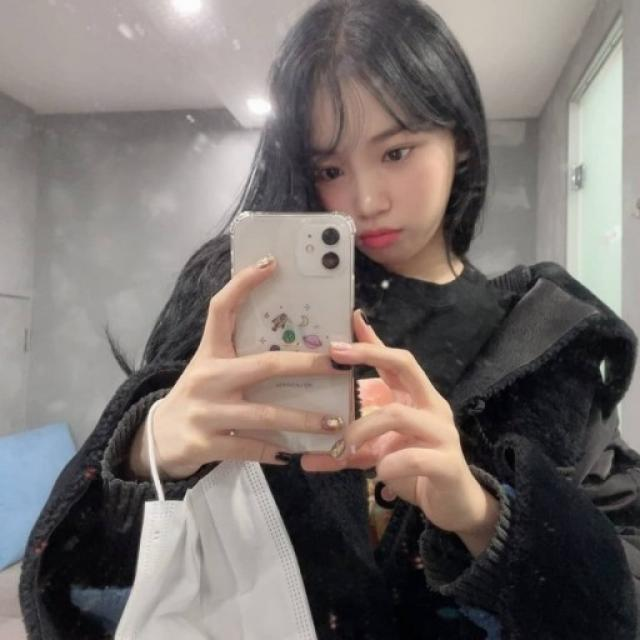lens: (296, 220, 348, 275)
phone: (228, 210, 360, 458)
